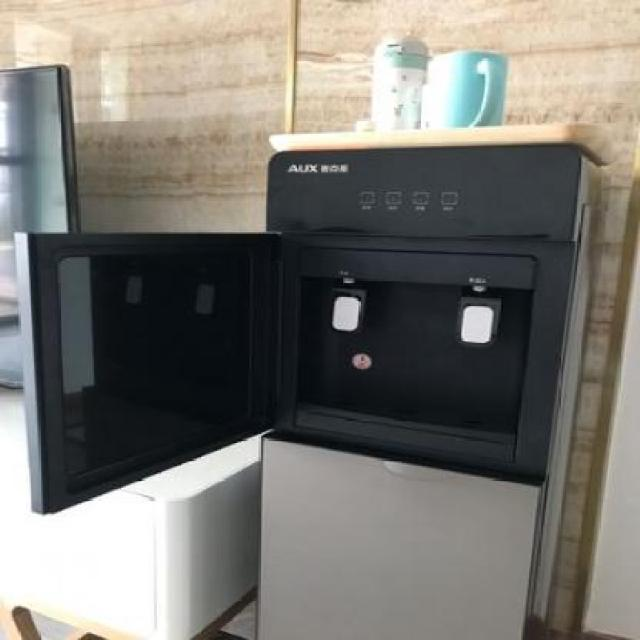cooler: (254, 121, 613, 640)
